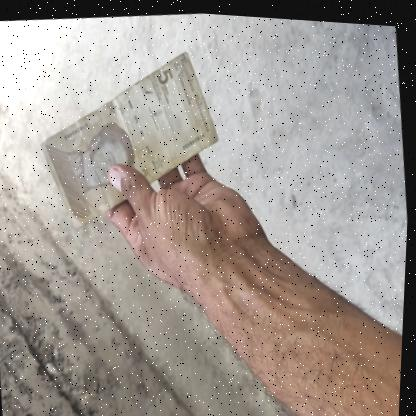five-front-vef: (29, 35, 232, 239)
